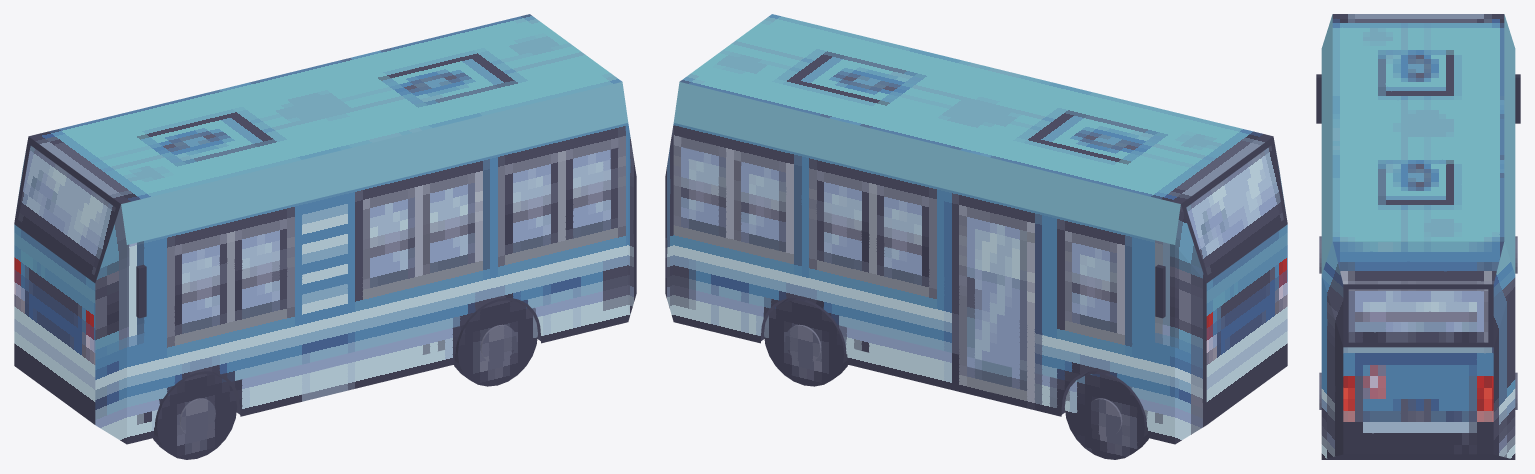
The model's file is bus-4-v1.glb.
3 renders of one model, left to right at view 1: azimuth 30°, elevation 25°; view 2: azimuth 150°, elevation 25°; view 3: azimuth 270°, elevation 25°, orthographic. The views are drawn at different scales.
Parts seen in each view (by area): view 1: Bus-body-west, Roof, Roof-shoulder-west, Front-fascia, Windshield-glass, Front-corner-west, Tire_FL, Tire_RL, Windshield-frame, Rear-corner-west, Hub_FL, Hub_RL (+1 smaller); view 2: Bus-body-east, Roof, Roof-shoulder-east, Front-fascia, Windshield-glass, Front-corner-east, Tire_FR, Tire_RR, Windshield-frame, Rear-corner-east, Hub_FR, Hub_RR (+1 smaller); view 3: Roof, Rear-fascia, Rear-window-glass, Rear-roof-edge, Rear-corner-east, Rear-corner-west, Roof-shoulder-east, Roof-shoulder-west, Rear-window-frame, Rear-roof-corner-east, Rear-roof-corner-west, Underfloor-rear-bevel (+2 smaller).
Boxes of the visible parts, x1,y1,x2,y2 form: Bus-body-west: (127, 123, 628, 444); Roof: (29, 14, 621, 203); Roof-shoulder-west: (121, 82, 628, 244); Front-fascia: (14, 224, 95, 424); Windshield-glass: (18, 145, 115, 274); Front-corner-west: (95, 245, 126, 444); Tire_FL: (153, 371, 236, 459); Tire_RL: (454, 298, 537, 386); Windshield-frame: (14, 136, 120, 282); Rear-corner-west: (628, 124, 636, 321); Hub_FL: (179, 398, 215, 436); Hub_RL: (480, 324, 516, 363); Bus-body-east: (673, 123, 1174, 444); Roof: (680, 14, 1272, 203); Roof-shoulder-east: (673, 82, 1180, 244); Front-fascia: (1206, 224, 1287, 424); Windshield-glass: (1186, 145, 1283, 274); Front-corner-east: (1175, 245, 1206, 444); Tire_FR: (1065, 371, 1148, 459); Tire_RR: (764, 298, 847, 386); Windshield-frame: (1181, 136, 1287, 282); Rear-corner-east: (665, 124, 673, 321); Hub_FR: (1086, 398, 1122, 436); Hub_RR: (785, 324, 821, 363); Roof: (1332, 14, 1504, 240); Rear-fascia: (1343, 347, 1493, 454); Rear-window-glass: (1348, 289, 1488, 342); Rear-roof-edge: (1332, 241, 1504, 284); Rear-corner-east: (1493, 275, 1515, 459); Rear-corner-west: (1321, 275, 1343, 459); Roof-shoulder-east: (1504, 14, 1515, 274); Roof-shoulder-west: (1321, 14, 1332, 274); Rear-window-frame: (1343, 284, 1493, 347); Rear-roof-corner-east: (1493, 241, 1514, 346); Rear-roof-corner-west: (1322, 241, 1343, 346); Underfloor-rear-bevel: (1322, 454, 1514, 459).
Size of the model in its own units: 108 by 51 by 38.
Materials: 1 (1 with a texture image).
